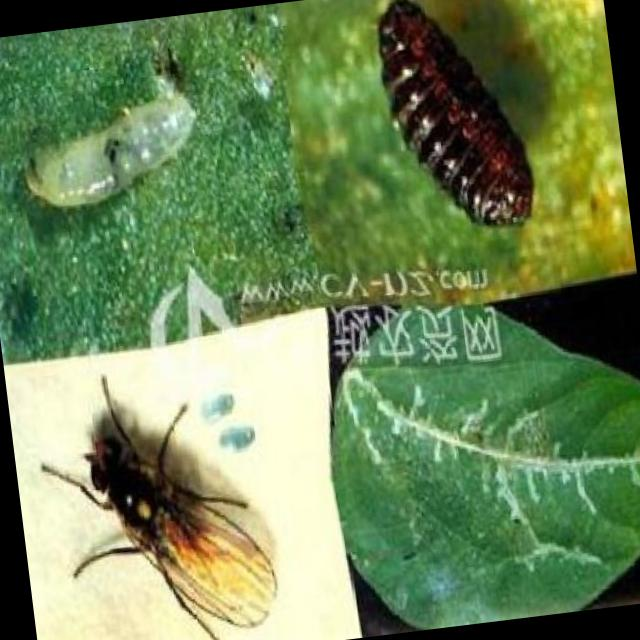whorl-maggot: (361, 0, 546, 247), (17, 76, 207, 218)
